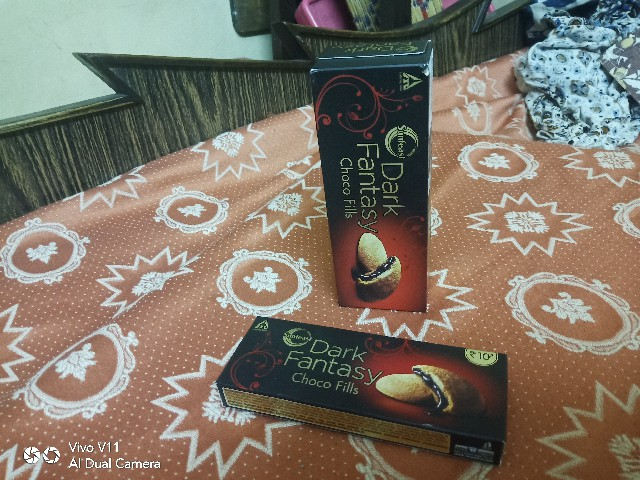darkfantasy big: (284, 40, 494, 314)
darkfantasy small: (217, 305, 510, 464)
